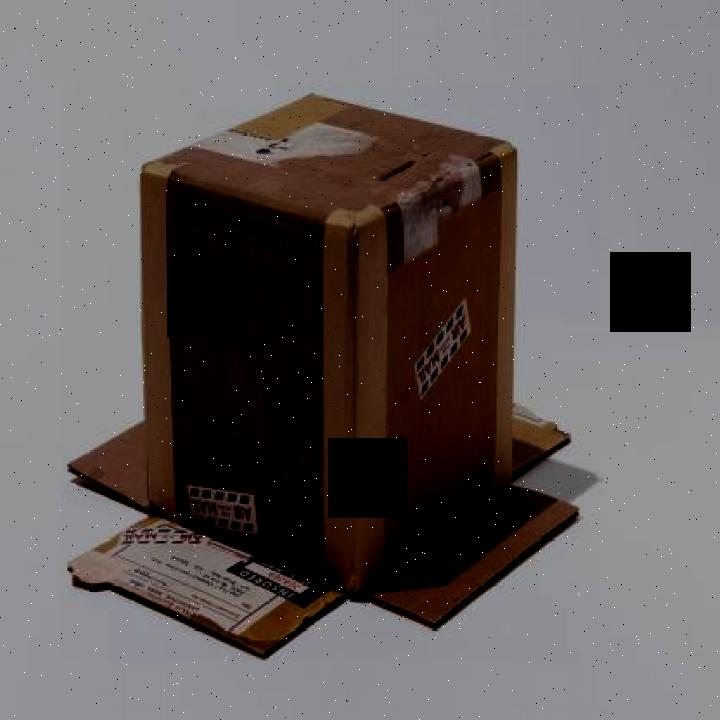box: (61, 86, 602, 660)
